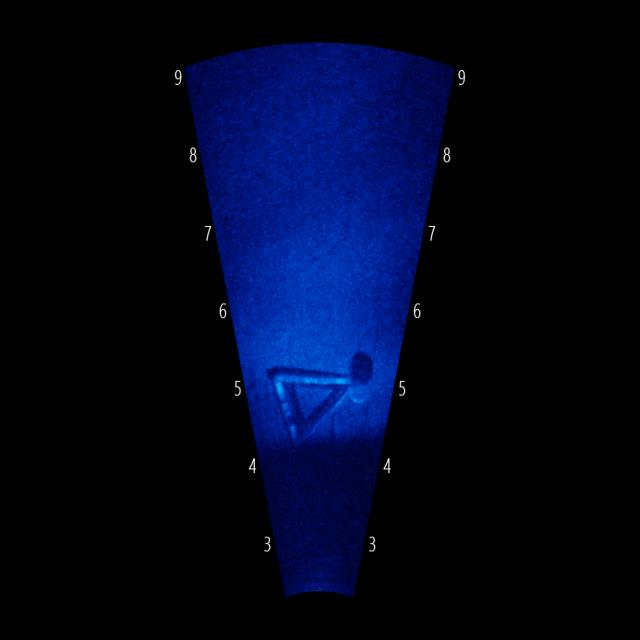triangle: (260, 352, 366, 447)
